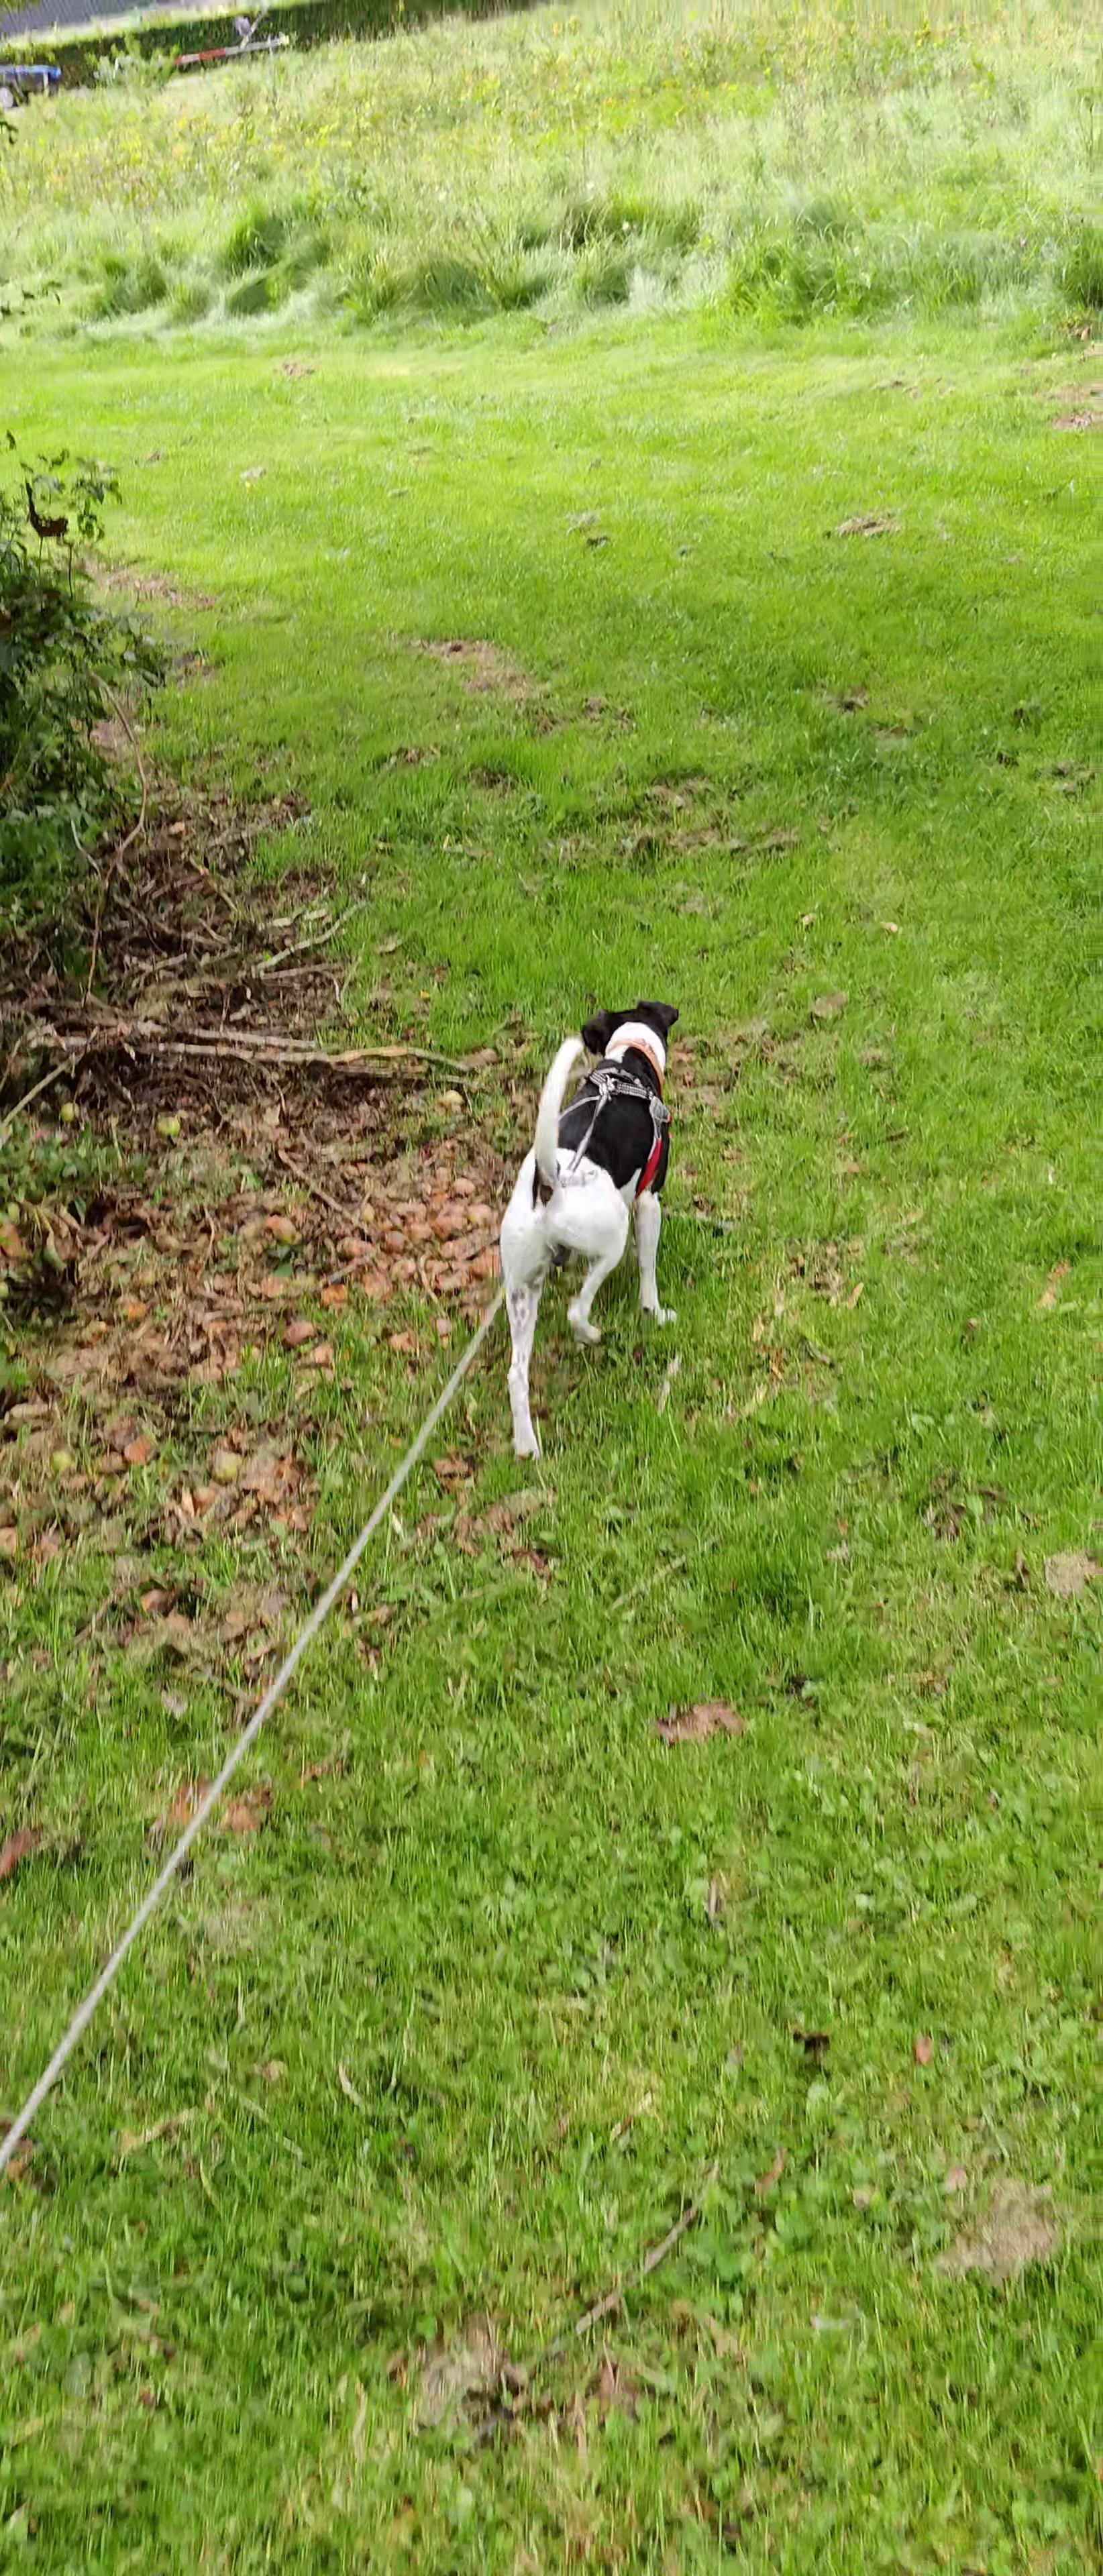Dog: (487, 989, 700, 1464)
